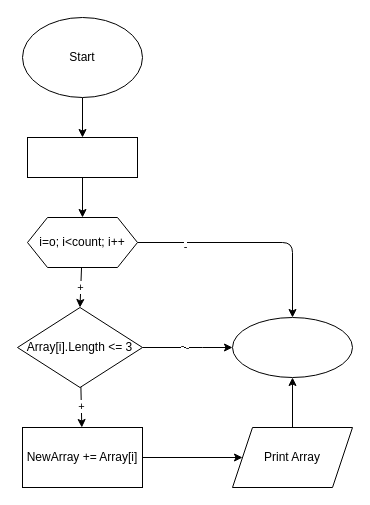
Some shapes in this 370 by 505 pixel diagram are drawn without their labels. The shapes that lost their labels are listed below. From the top down, each one's box as (x1, y1, x2, y2) in pixels, then its label:
(26, 136, 138, 178): input int count InputArray = [...]
(232, 316, 352, 378): End
